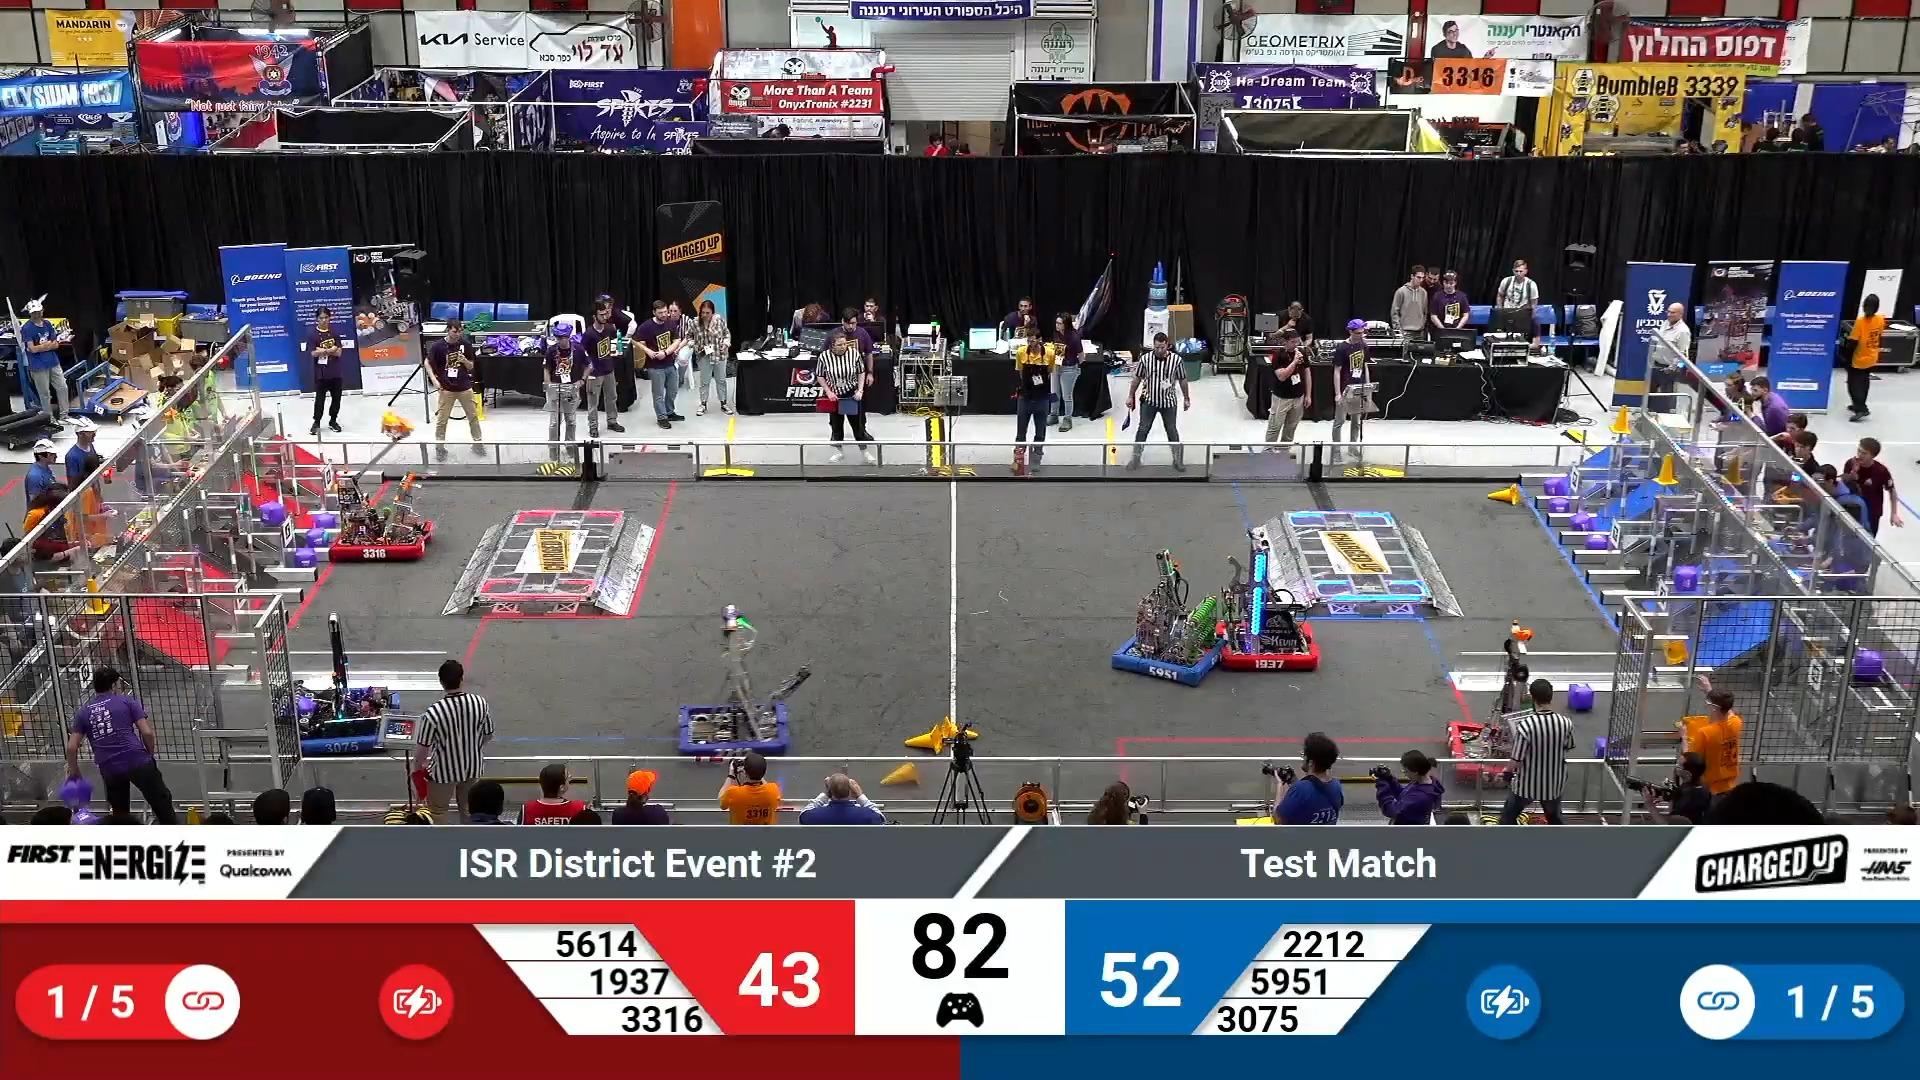robot: (674, 604, 816, 760), (1444, 624, 1569, 793), (264, 609, 397, 756), (327, 411, 435, 560), (1211, 526, 1320, 673), (1110, 549, 1220, 688)
